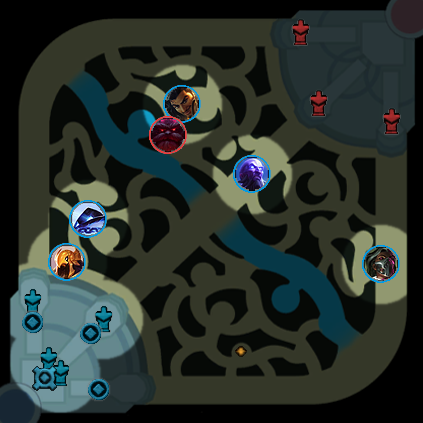Akshan: (163, 85, 201, 123)
Azir: (48, 243, 86, 281)
Ornn: (149, 116, 187, 154)
Renata: (362, 245, 400, 283)
Ryze: (233, 155, 271, 193)
Xerath: (69, 200, 107, 238)
